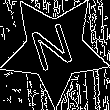N_S: (29, 19, 81, 80)
